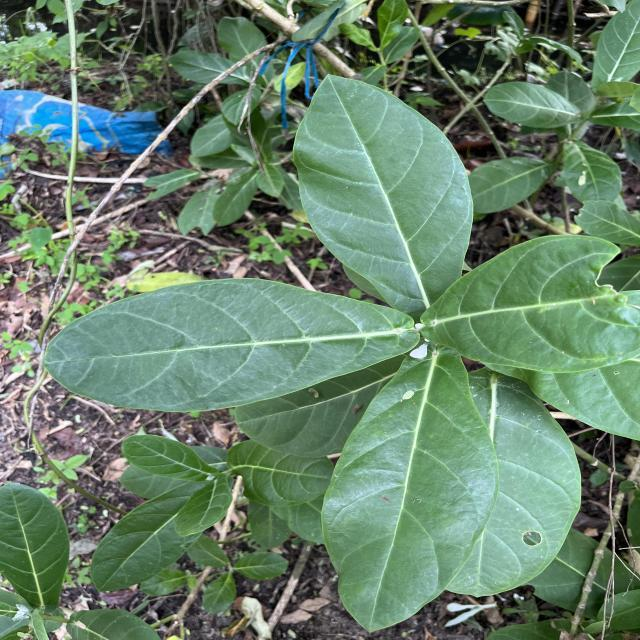Calotropis gigantea: (39, 276, 422, 414), (320, 342, 498, 635), (291, 73, 475, 320), (450, 366, 584, 600), (89, 479, 205, 594), (0, 480, 70, 614), (466, 156, 555, 212), (481, 80, 584, 127), (561, 138, 623, 204)
